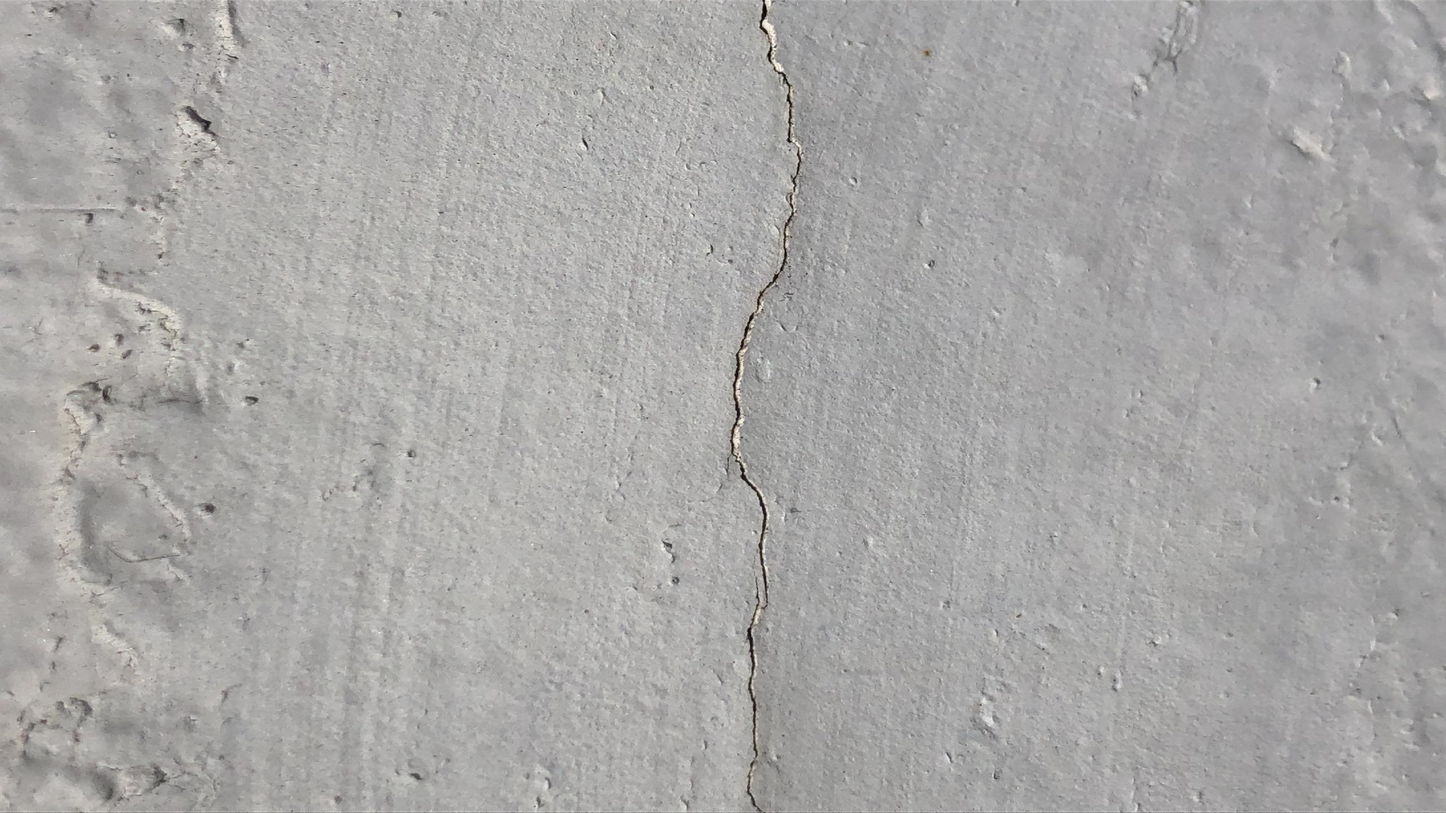crack: (723, 0, 806, 603), (742, 554, 764, 809)
